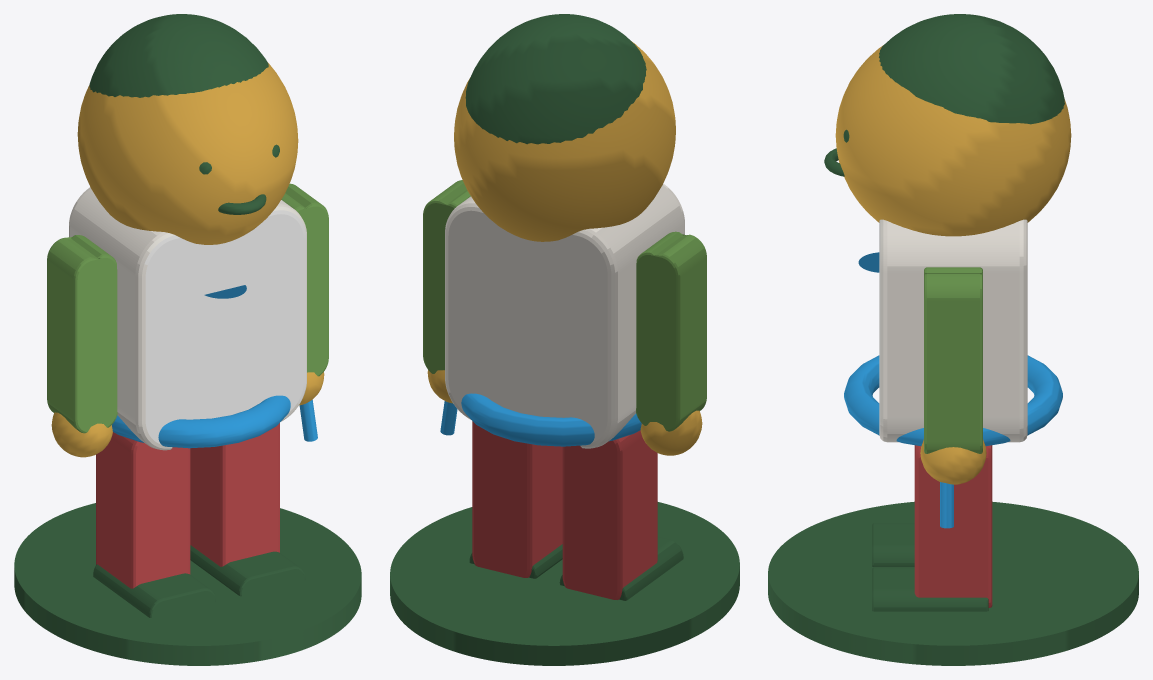
Rendered from 1333_中国古代寓言_卖柑者.glb.
3 views of the same model, side by side, from view 1: azimuth 30°, elevation 25°; view 2: azimuth 150°, elevation 25°; view 3: azimuth 270°, elevation 25° (orthographic).
Visible parts, largest first — view 1: card_1333; view 2: card_1333; view 3: card_1333.
Part boxes in pixels (box(x1,y1,x2,y2)): card_1333: box(14, 14, 361, 665); card_1333: box(390, 14, 739, 665); card_1333: box(768, 14, 1138, 665).
Bounding box in the file's own units: 0.5476 × 1 × 0.5893.
